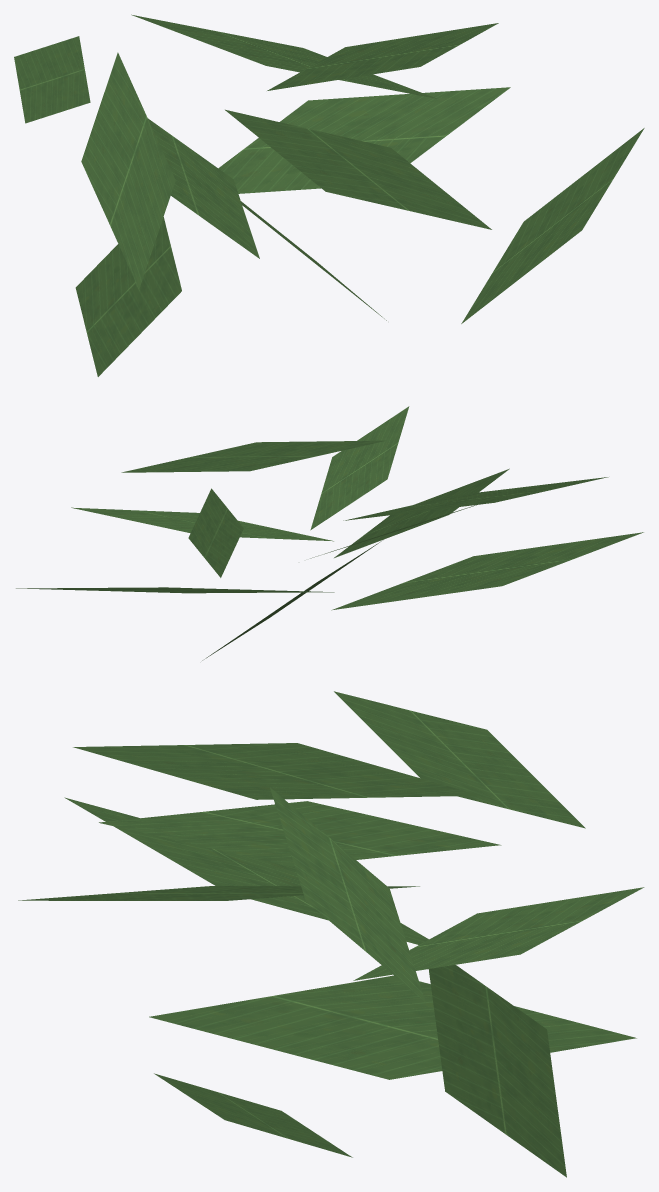
File: en-010_vine_cluster_set__hanging.obj
The picture shows the model from 3 angles, top to bottom: view 1: azimuth 30°, elevation 25°; view 2: azimuth 150°, elevation 25°; view 3: azimuth 270°, elevation 25°; orthographic projection. The views are drawn at different scales.
Visible parts, largest first — view 1: en-010_vine_cluster_set__hanging; view 2: en-010_vine_cluster_set__hanging; view 3: en-010_vine_cluster_set__hanging.
Part boxes in pixels (box(x1,y1,x2,y2)): en-010_vine_cluster_set__hanging: box(14, 14, 644, 376); en-010_vine_cluster_set__hanging: box(16, 406, 643, 660); en-010_vine_cluster_set__hanging: box(18, 691, 644, 1177).
Size of the model in its own units: 1.52 by 0.5059 by 1.21.
1 material, 1 textured.
